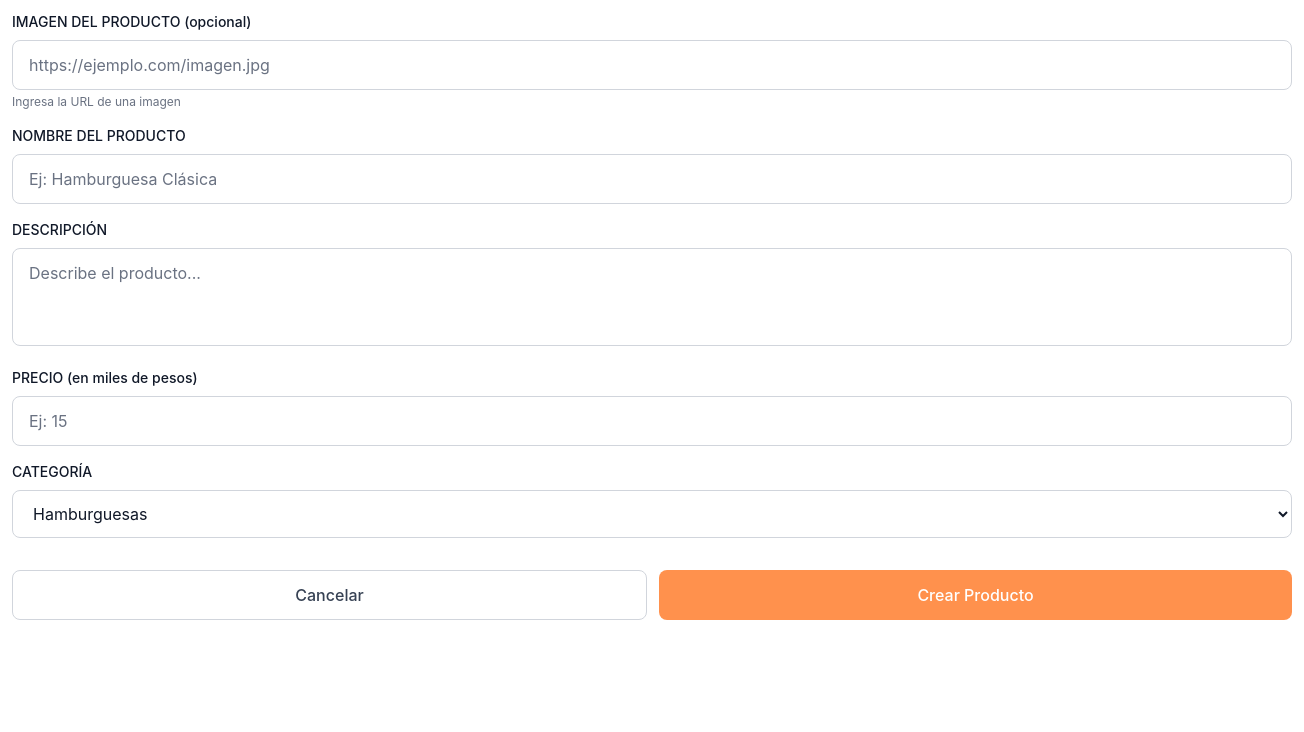
Test: CreateProductForm › validates minimum name length
The image size is (1304, 732).
Type "A" into the field labelled "NOMBRE DEL PRODUCTO" at (652, 179), box [12,154,1292,204]
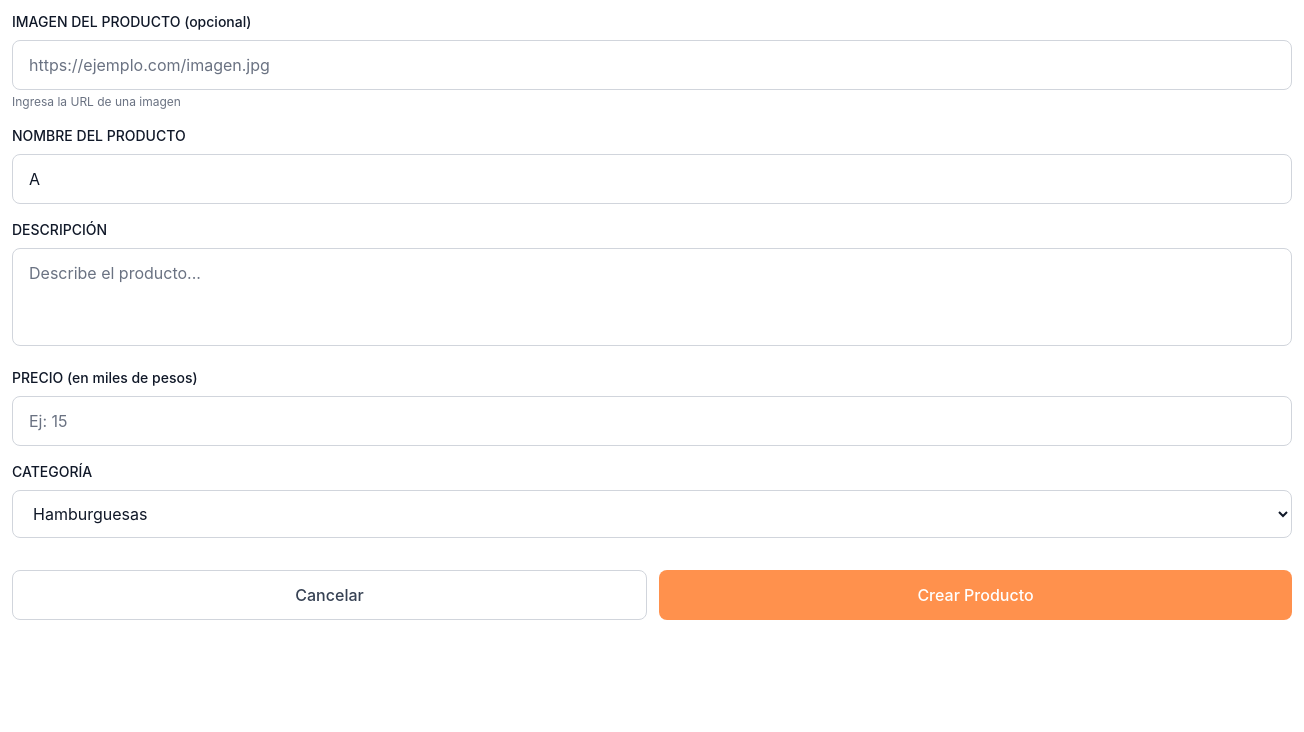
Click the button "Crear Producto" at (976, 595), box [659,570,1292,620]
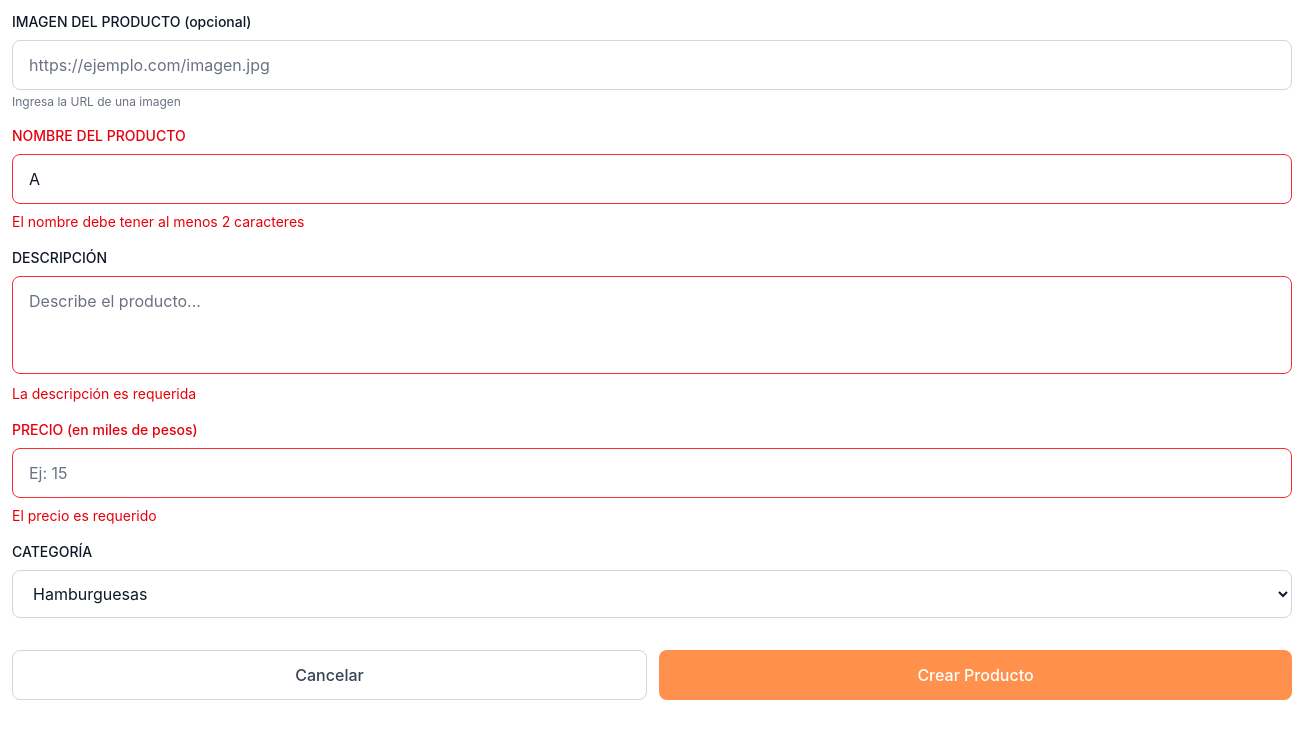
Now the text "El nombre debe tener al menos 2 caracteres" is shown, box [12,213,304,230]
